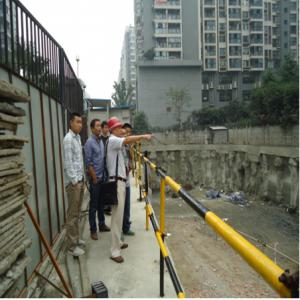none: (69, 111, 85, 135), (91, 119, 103, 138), (101, 121, 111, 136)
red: (107, 116, 123, 138)
